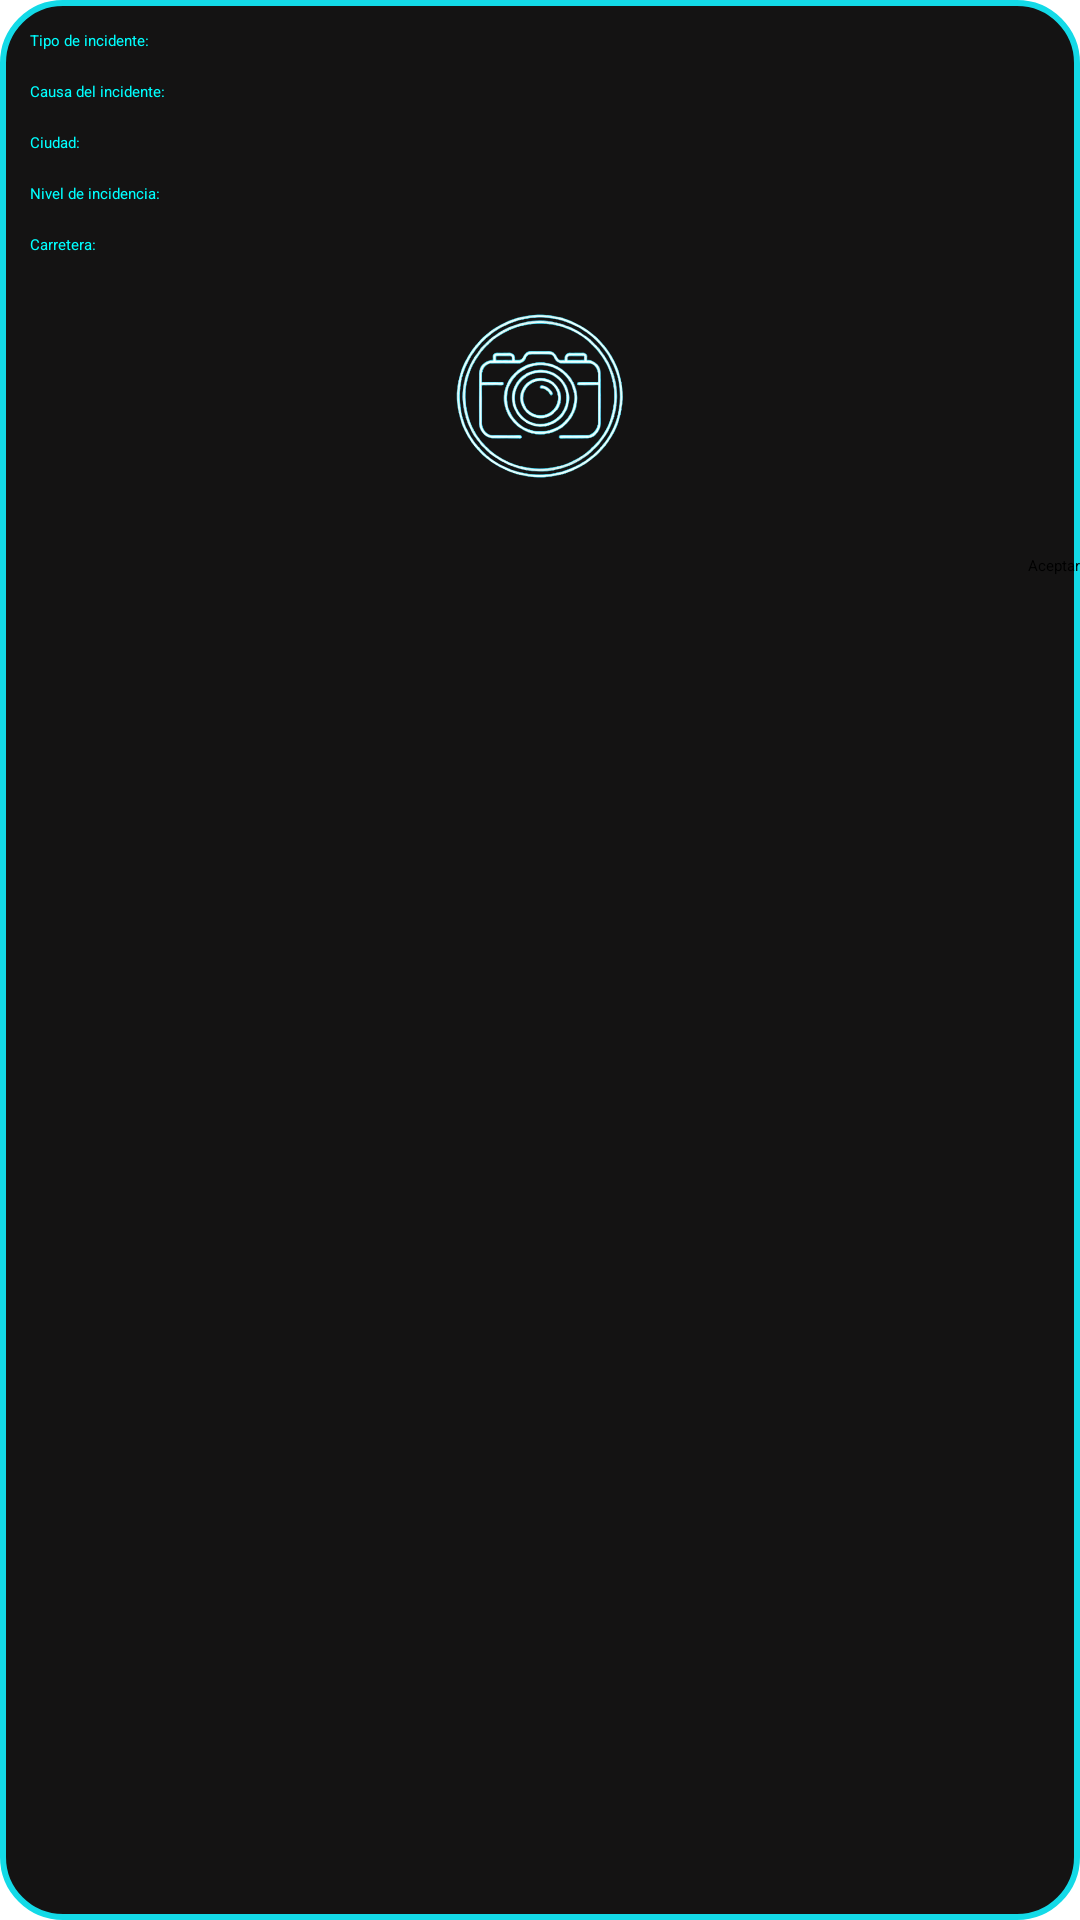

Screen size 1080px x 1920px. Icon name, then its center in pixels as [x,y]:
camara: [539,396]
